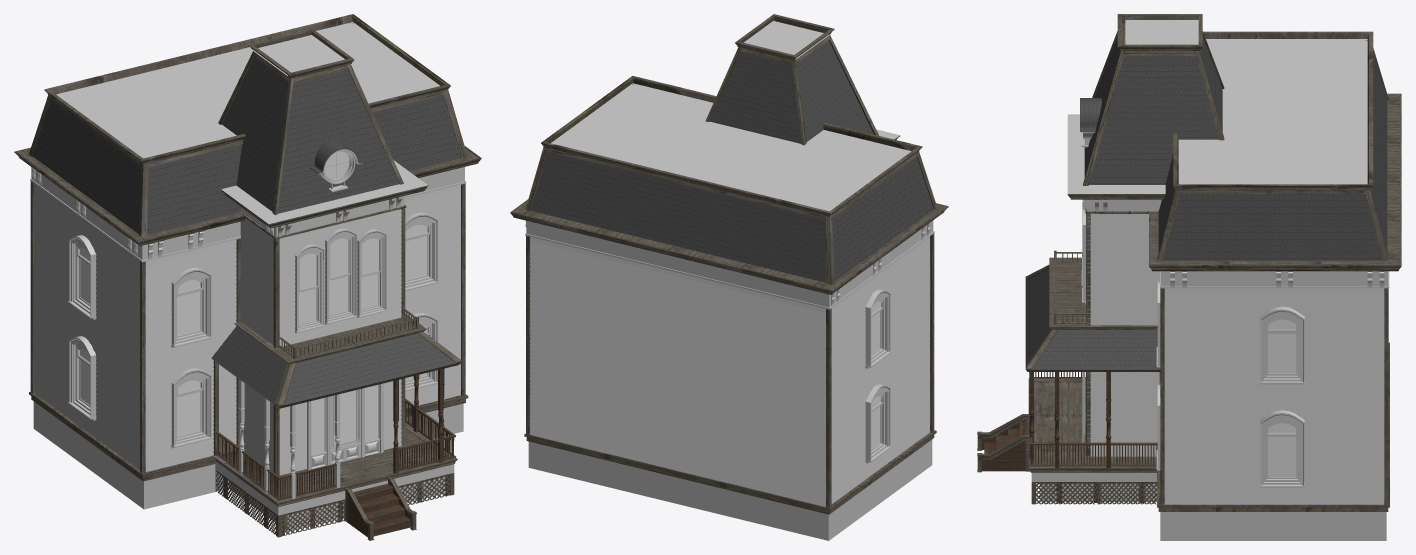
The picture shows the model from 3 angles, left to right: view 1: azimuth 30°, elevation 25°; view 2: azimuth 150°, elevation 25°; view 3: azimuth 270°, elevation 25°; orthographic projection. The views are drawn at different scales.
Parts seen in each view (by area): view 1: Cube.033, Cube.008, Cube.011, Cube.064, Cube.029, Cube.022, Cube.013, Cube.030, Cube.028, Cube.020, Cube.003, Cube.034 (+29 smaller); view 2: Cube.053, Cube.011, Cube.064, Cube.033, Cube.028, Cube.029, Cube.003, Cube.020, Cube.008, Cube.040, Cube.059, Cube.070 (+7 smaller); view 3: Cube.030, Cube.064, Cube.011, Cube.029, Cube.008, Cube.028, Cube.022, Cube.020, Cube.059, Cube.056, Cube.003, Cube.019 (+22 smaller).
Boxes of the visible parts, x1,y1,x2,y2 form: Cube.033: (34,184,273,471); Cube.008: (68,212,439,470); Cube.011: (32,95,461,234); Cube.064: (56,22,439,158); Cube.029: (222,57,399,213); Cube.022: (212,326,455,405); Cube.013: (279,209,401,475); Cube.030: (404,184,460,408); Cube.028: (33,401,463,509); Cube.020: (44,14,450,164); Cube.003: (31,167,464,259); Cube.034: (215,379,340,500); Cube.053: (530,237,825,506); Cube.011: (531,151,933,282); Cube.064: (551,83,911,211); Cube.033: (831,236,929,503); Cube.028: (528,439,932,540); Cube.029: (710,40,873,143); Cube.003: (526,220,933,307); Cube.020: (541,76,922,216); Cube.008: (865,289,891,463); Cube.040: (524,430,936,514); Cube.059: (512,201,946,290); Cube.070: (525,84,937,284); Cube.030: (1087,213,1384,504); Cube.064: (1178,39,1367,184); Cube.011: (1158,54,1387,260); Cube.029: (1084,37,1222,184); Cube.008: (1081,200,1304,487); Cube.028: (1160,512,1386,540); Cube.022: (1025,269,1160,369); Cube.020: (1173,31,1373,190); Cube.059: (1150,94,1399,265); Cube.056: (1036,382,1156,464); Cube.003: (1087,199,1388,285); Cube.019: (1029,372,1157,468).
Size of the model in its own units: 12.08 by 14.08 by 12.61.
